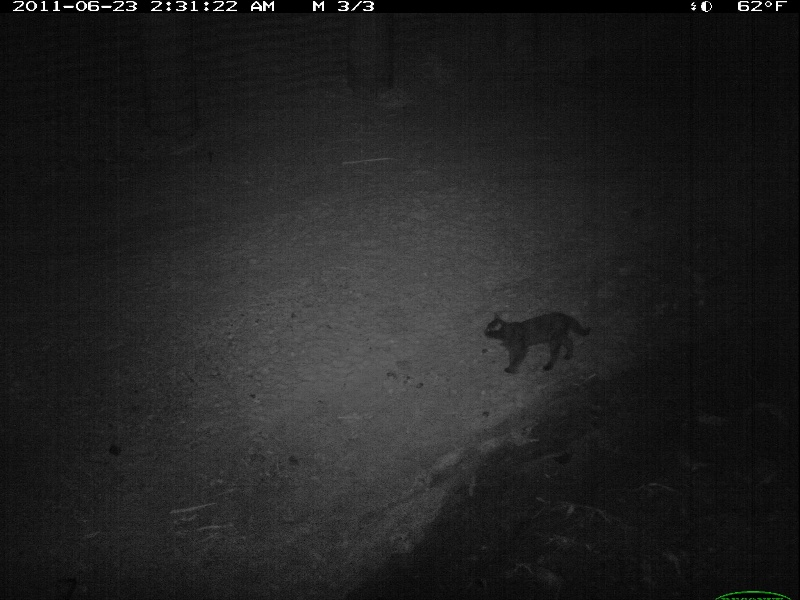cat: (484, 311, 592, 376)
